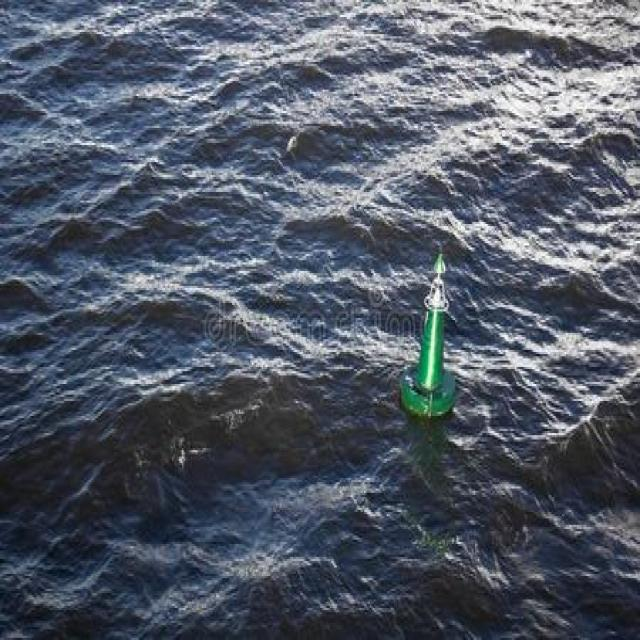buoy: (392, 246, 462, 419)
